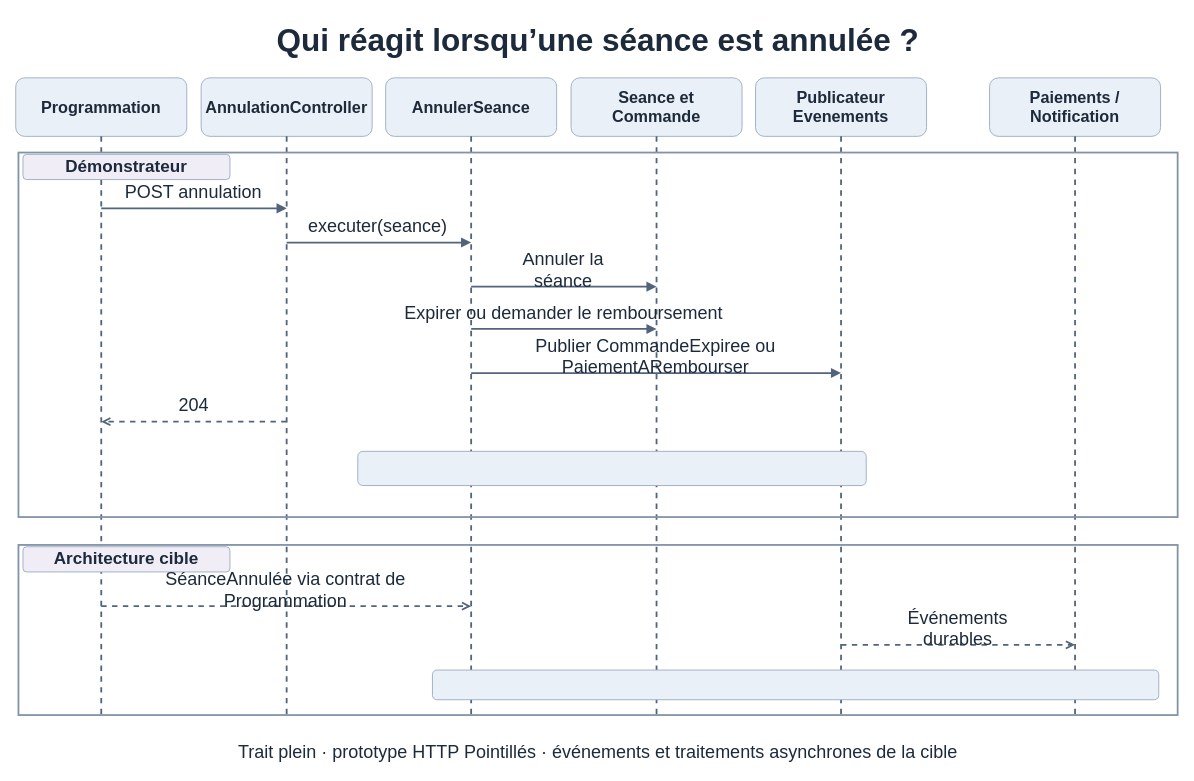
This 1194x781 diagram has some shape labels left out. The centre of each missing label's shape, as x and y in pixels:
Paiements route vers PayVia ou le partenaire. Notification informe les clients.: the point at 795,684
Une seconde annulation ne republie aucun événement.: the point at 611,468
